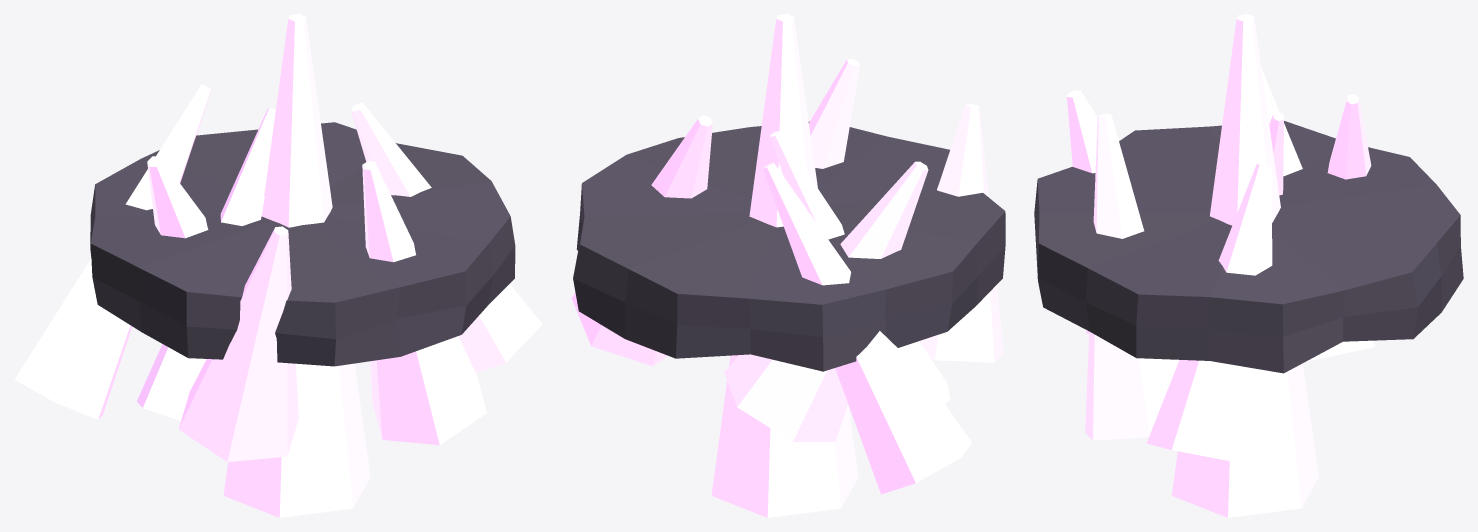
File: crystal_3.glb
The picture shows the model from 3 angles, left to right: view 1: azimuth 30°, elevation 25°; view 2: azimuth 150°, elevation 25°; view 3: azimuth 270°, elevation 25°; orthographic projection.
Visible parts, largest first — view 1: Cylinder; view 2: Cylinder; view 3: Cylinder.
Boxes of the visible parts, left/top/right/bottom form: Cylinder: left=14, top=14, right=542, bottom=517; Cylinder: left=571, top=14, right=1005, bottom=517; Cylinder: left=1034, top=14, right=1463, bottom=517.
Size of the model in its own units: 3.71 by 3.7 by 3.07.
